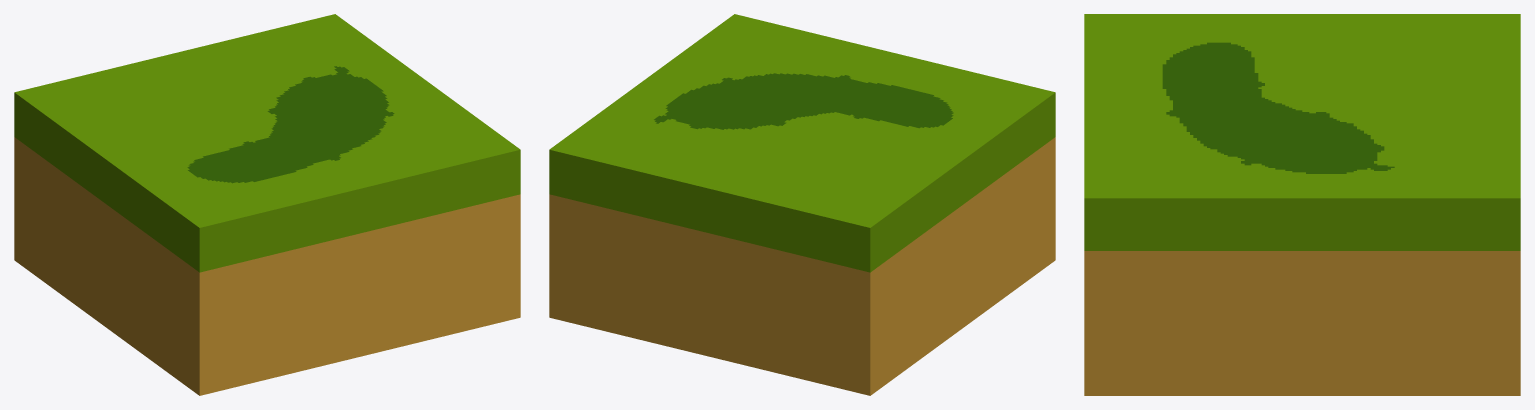
3 renders of one model, left to right at view 1: azimuth 30°, elevation 25°; view 2: azimuth 150°, elevation 25°; view 3: azimuth 270°, elevation 25°, orthographic. The views are drawn at different scales.
Visible parts, largest first — view 1: 6K; view 2: 6K; view 3: 6K.
Part boxes in pixels (x1=…): 6K: x1=14, y1=14, x2=520, y2=395; 6K: x1=549, y1=14, x2=1055, y2=395; 6K: x1=1084, y1=14, x2=1520, y2=395.
Bounding box in the file's own units: 12.8 × 6.4 × 12.8.
Materials: 1 (1 with a texture image).
